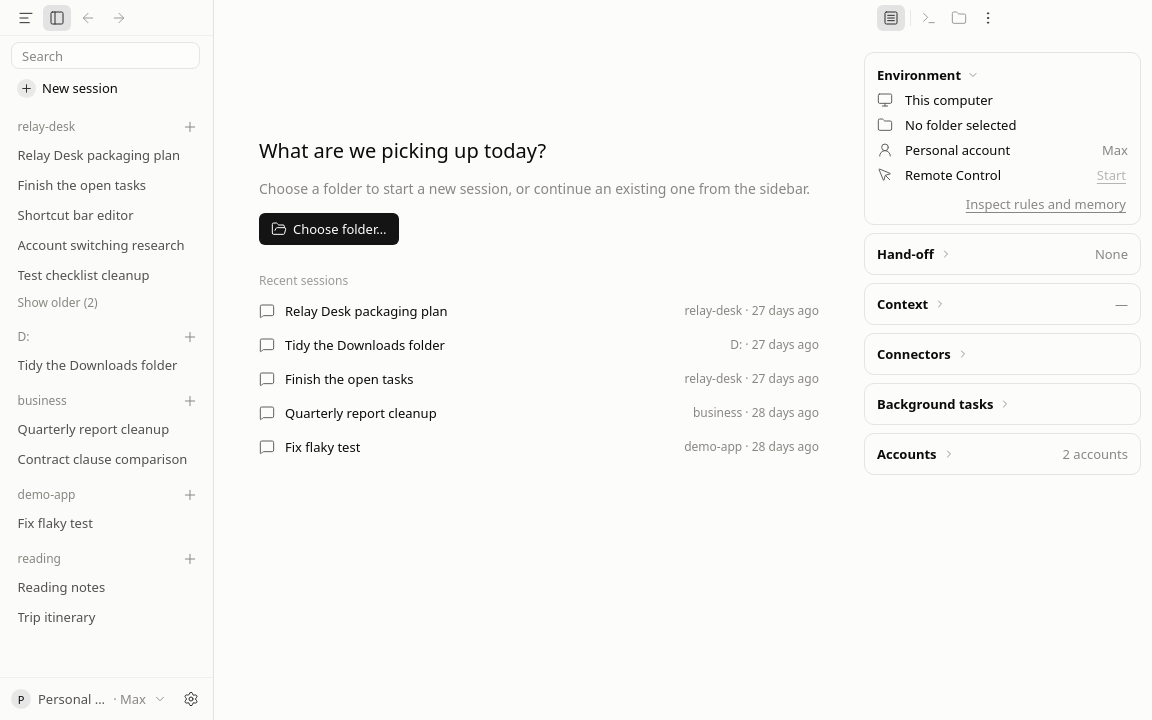
renderer handoff fixes › file and folder menu picks append quoted references without sending or resuming
Click the button "Fix flaky test" at (106, 523), box top-left (7, 509), bottom-right (206, 537)
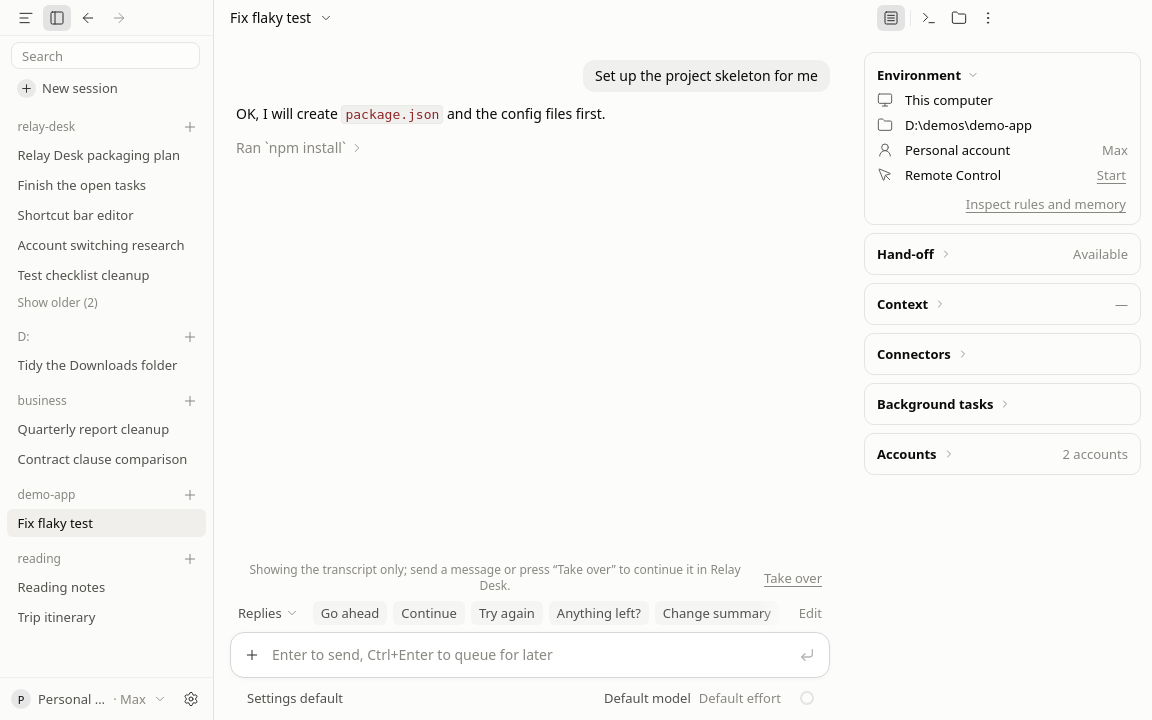
Type "look" into the text box named "Message" at (530, 655), box top-left (272, 641), bottom-right (787, 669)
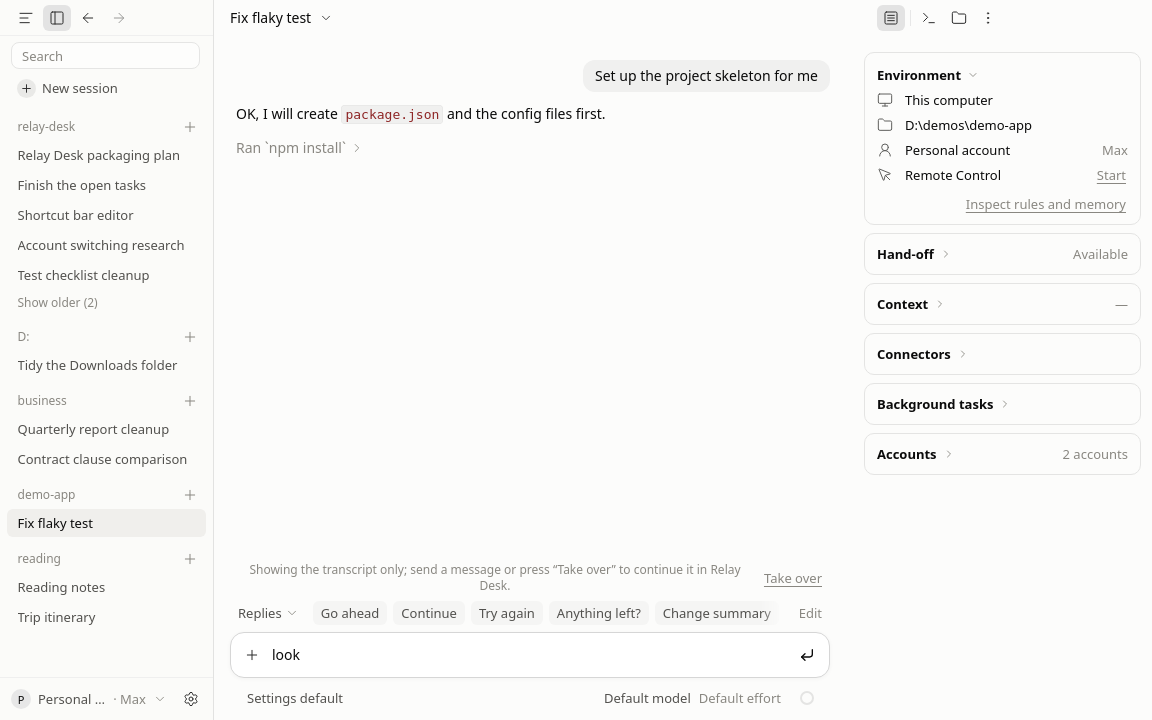
Click the button named "Add" at (252, 655), box top-left (238, 641), bottom-right (266, 669)
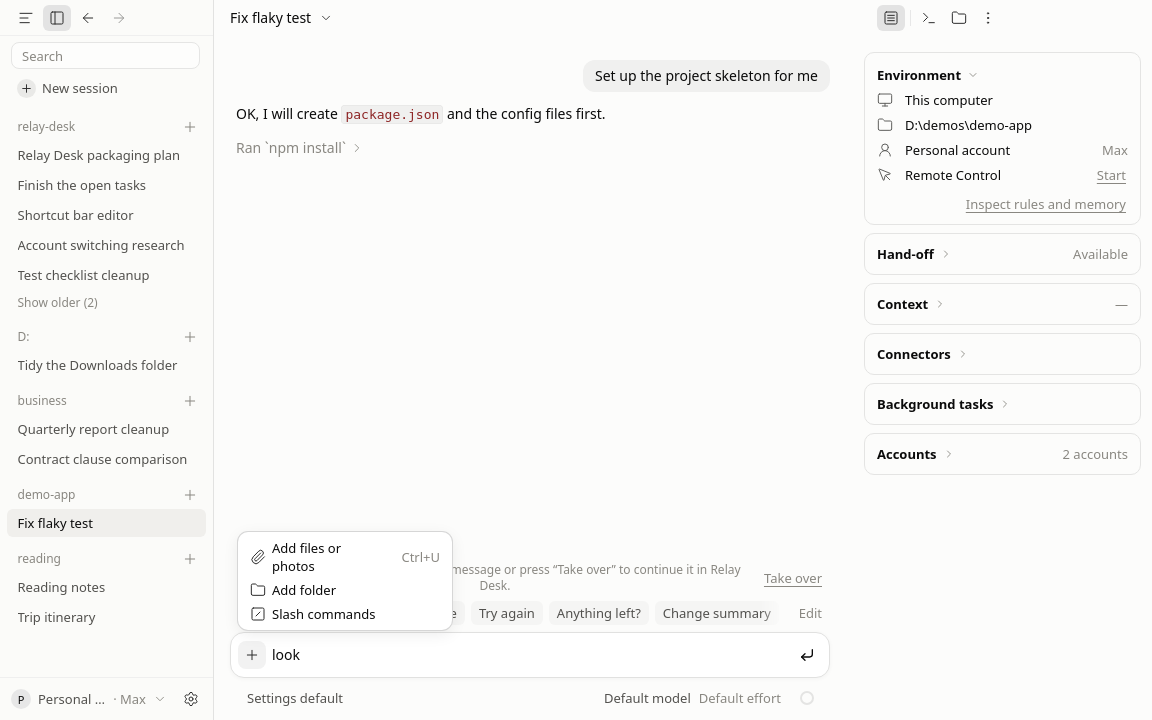
Click the menu item "Add files or photos Ctrl+U" at (307, 548), box top-left (242, 536), bottom-right (448, 578)
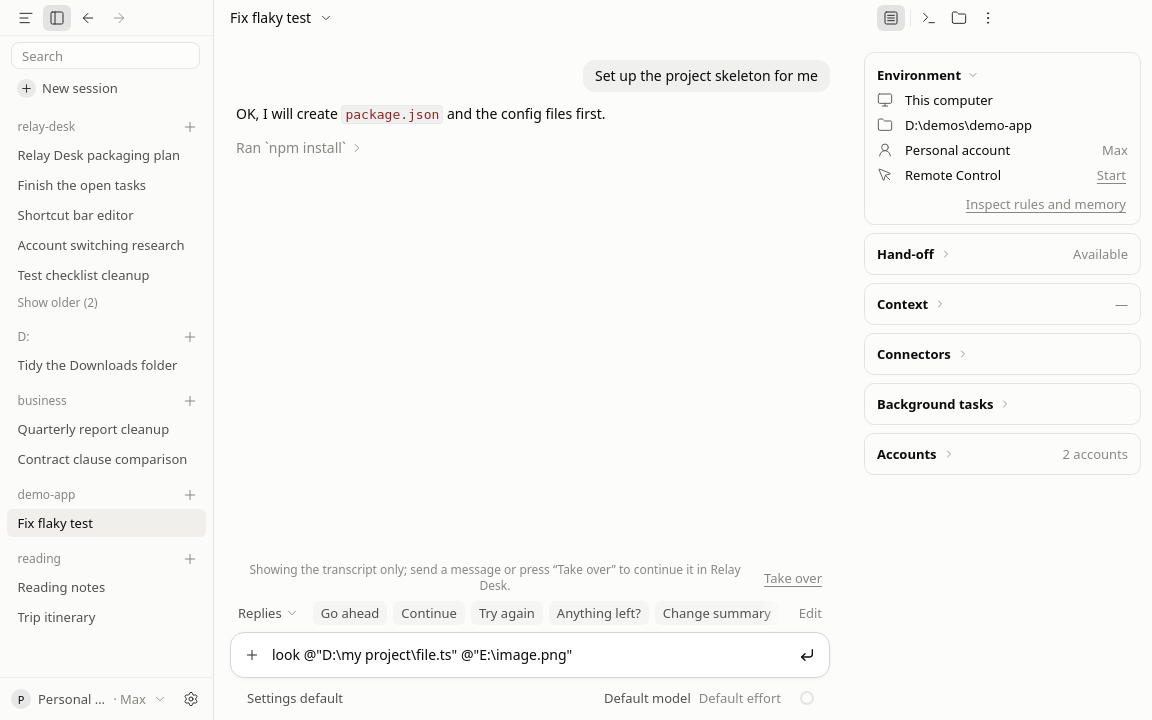
Now the text box named "Message" holds "look @\"D:\\my project\\file.ts\" @\"E:\\image.png\" ", box top-left (272, 641), bottom-right (787, 669)
Click the button named "Add" at (252, 655), box top-left (238, 641), bottom-right (266, 669)
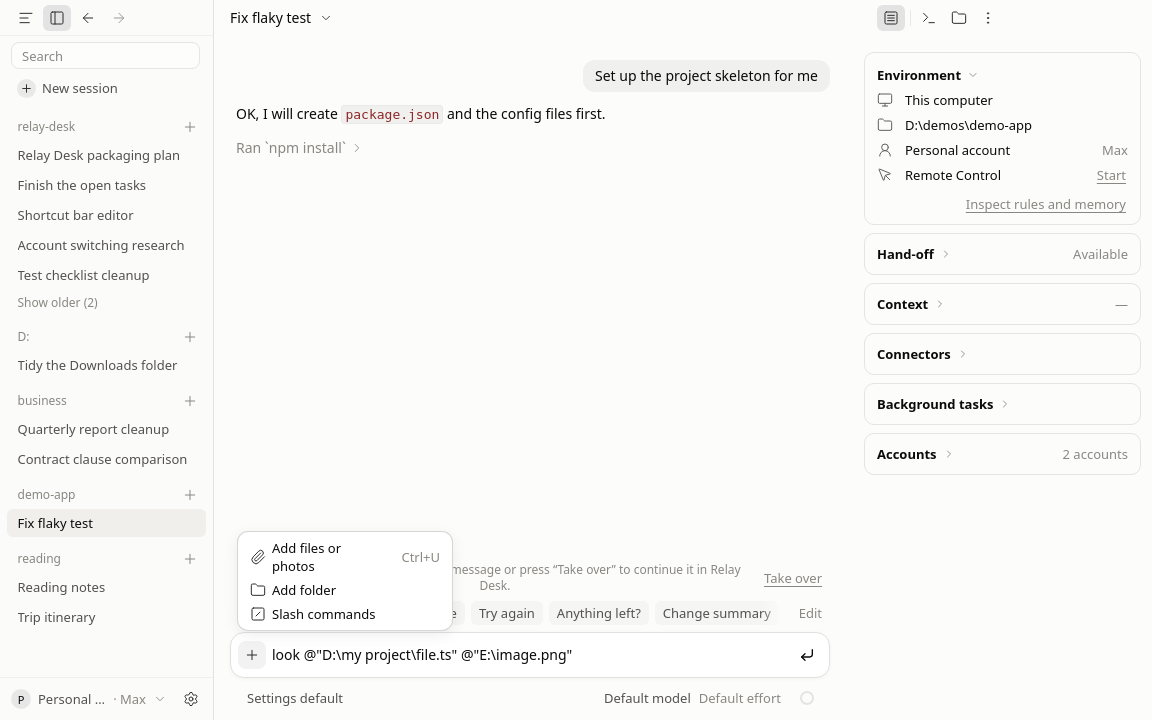
Click the menu item "Add folder" at (293, 590), box top-left (250, 581), bottom-right (336, 599)
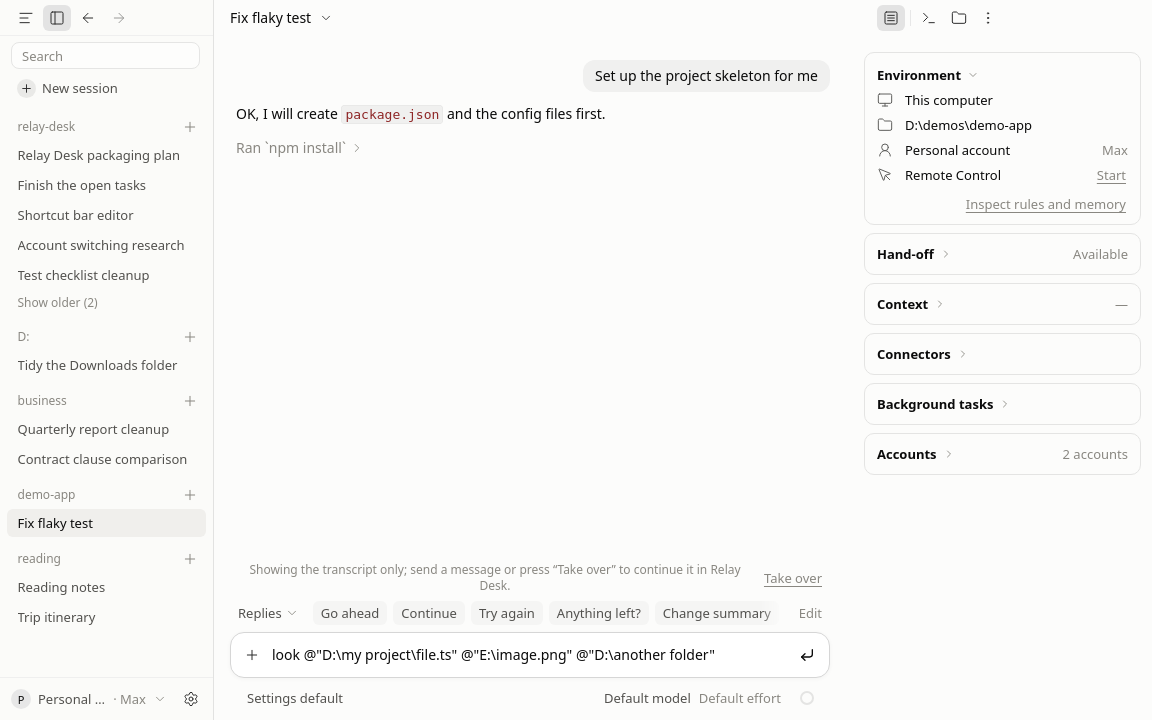
Now the text box named "Message" holds "look @\"D:\\my project\\file.ts\" @\"E:\\image.png\" @\"D:\\another folder\" ", box top-left (272, 641), bottom-right (787, 669)
